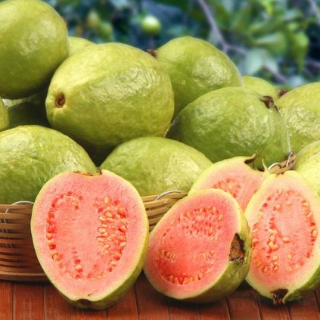oi: (47, 41, 173, 152)
